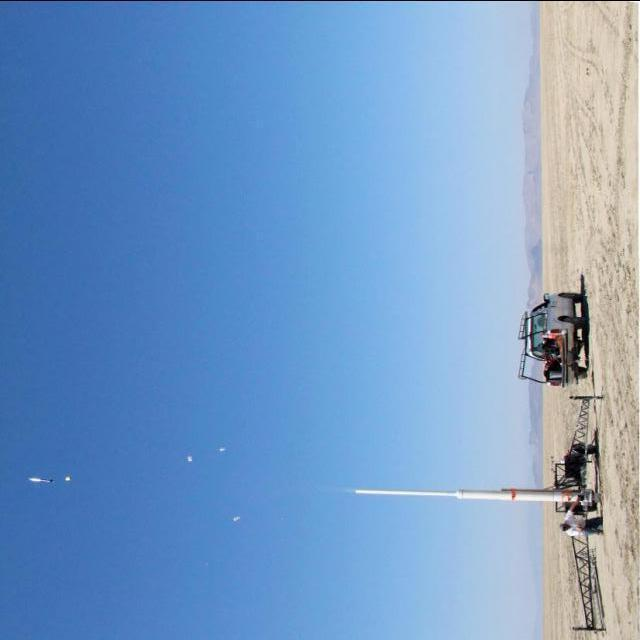missile: (333, 477, 587, 532)
